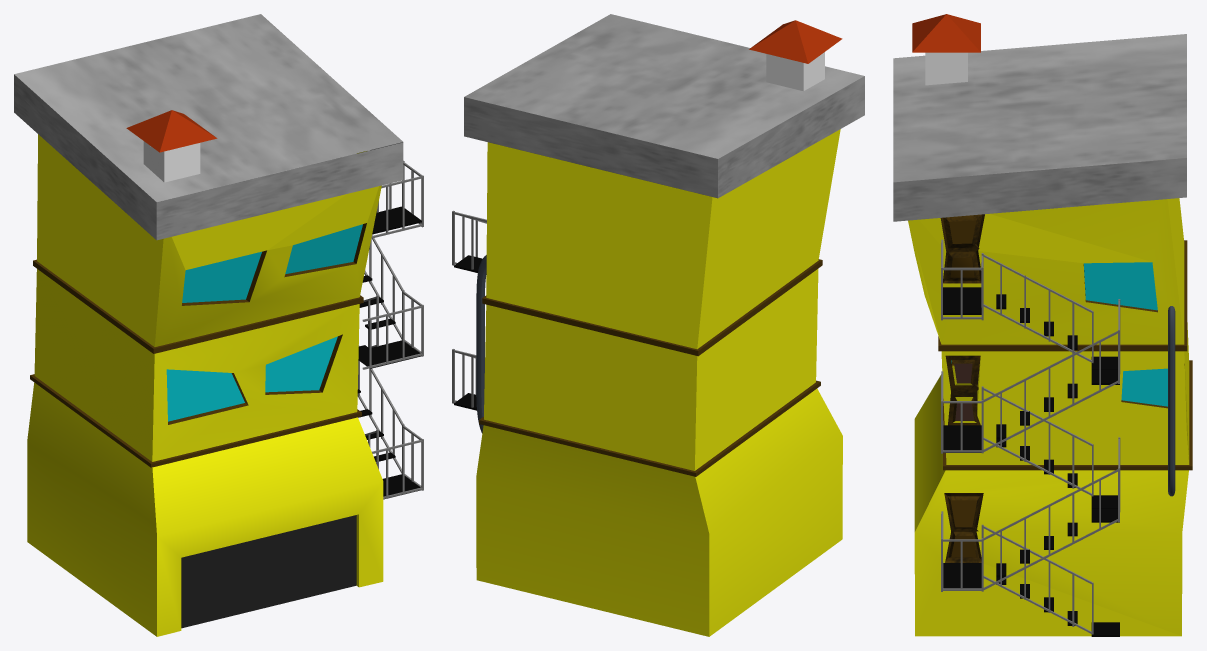
Rendered from PredioTorto-AmareloLOD0.fbx.
The picture shows the model from 3 angles, left to right: view 1: azimuth 30°, elevation 25°; view 2: azimuth 150°, elevation 25°; view 3: azimuth 270°, elevation 25°; orthographic projection. The views are drawn at different scales.
Parts seen in each view (by area): view 1: Predio3Andares; view 2: Predio3Andares; view 3: Predio3Andares.
Part boxes in pixels (x1,y1,x2,y2): Predio3Andares: [14, 14, 423, 636]; Predio3Andares: [452, 14, 864, 636]; Predio3Andares: [893, 14, 1192, 636].
Bounding box in the file's own units: 1035 × 1727 × 895.
